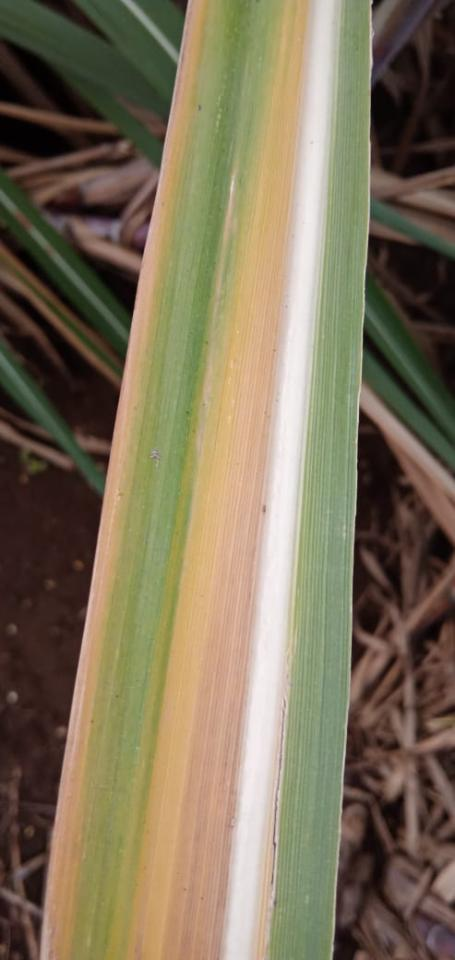Rust: (261, 503, 267, 514), (197, 103, 202, 112)
Yellow: (127, 0, 308, 959), (38, 0, 208, 959)
